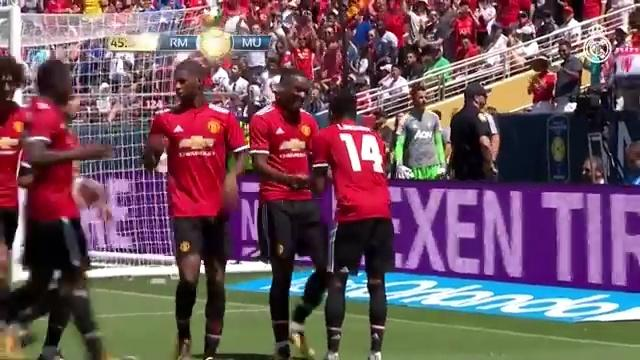player: (143, 59, 246, 358), (9, 60, 110, 359), (249, 69, 326, 358), (312, 91, 393, 359), (0, 55, 24, 334), (11, 279, 69, 359)
